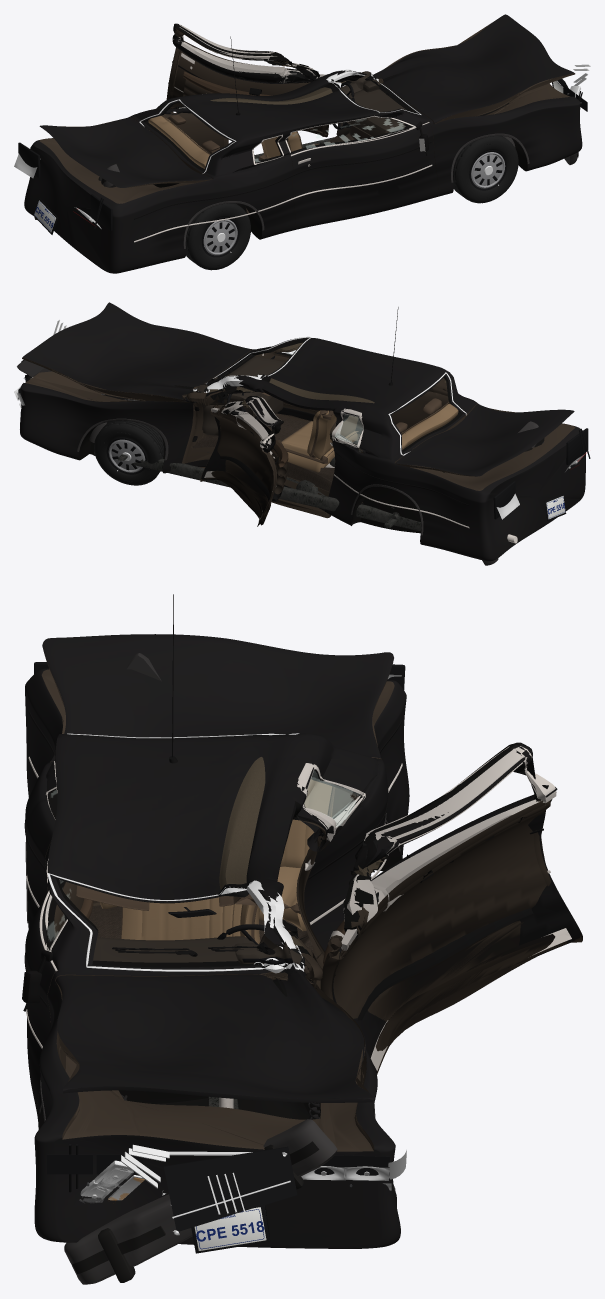
The model's file is coupe84_side_d3.glb.
The picture shows the model from 3 angles, top to bottom: view 1: azimuth 30°, elevation 25°; view 2: azimuth 150°, elevation 25°; view 3: azimuth 270°, elevation 25°; orthographic projection. The views are drawn at different scales.
Visible parts, largest first — view 1: Body, Hood, Door_FR, Trunk, Door_FL, Interior, Wheel_FR_mesh, Wheel_RR_mesh, Trim_FL, Ends, Trim, Trim_FR (+3 smaller); view 2: Body, Hood, Trunk, Interior, Door_FL, Wheel_FL_mesh, Underbody, Trim_FL, Trim, Ends, Glass, Door_FR (+1 smaller); view 3: Body, Door_FL, Hood, Trunk, Ends, Interior, Trim_FL, Bumper_F, Glass, Door_FR, Trim, Trim_FR.
Part boxes in pixels (<box>): Body: <box>24,70,582,273</box>; Hood: <box>374,14,575,123</box>; Door_FR: <box>285,115,438,229</box>; Trunk: <box>39,116,212,187</box>; Door_FL: <box>166,23,328,137</box>; Interior: <box>148,72,408,168</box>; Wheel_FR_mesh: <box>453,136,518,203</box>; Wheel_RR_mesh: <box>186,203,250,270</box>; Trim_FL: <box>168,24,325,106</box>; Ends: <box>14,64,590,234</box>; Trim: <box>134,36,529,248</box>; Trim_FR: <box>285,115,432,199</box>; Body: <box>20,337,585,561</box>; Hood: <box>22,302,252,401</box>; Trunk: <box>395,404,574,476</box>; Interior: <box>197,355,458,472</box>; Door_FL: <box>200,396,283,526</box>; Wheel_FL_mesh: <box>94,420,163,485</box>; Underbody: <box>93,440,517,543</box>; Trim_FL: <box>204,397,288,521</box>; Trim: <box>77,307,469,535</box>; Ends: <box>14,320,590,521</box>; Glass: <box>193,336,466,455</box>; Door_FR: <box>254,347,392,434</box>; Body: <box>25,668,409,1248</box>; Door_FL: <box>320,742,582,1074</box>; Hood: <box>55,970,373,1102</box>; Trunk: <box>42,634,393,762</box>; Ends: <box>34,662,406,1253</box>; Interior: <box>76,779,335,966</box>; Trim_FL: <box>323,746,571,1070</box>; Bumper_F: <box>64,1119,337,1284</box>; Glass: <box>46,733,364,973</box>; Door_FR: <box>25,841,84,1111</box>; Trim: <box>24,594,402,1190</box>; Trim_FR: <box>22,788,93,1048</box>.
Bounding box in the file's own units: 5.36 × 1.98 × 2.49.
Materials: 34 (5 with a texture image).
